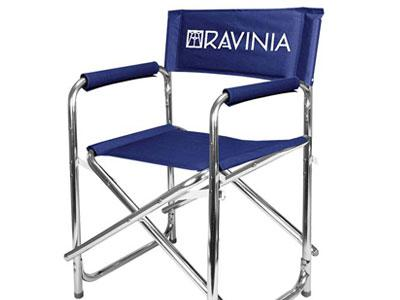chair: (50, 5, 338, 300)
